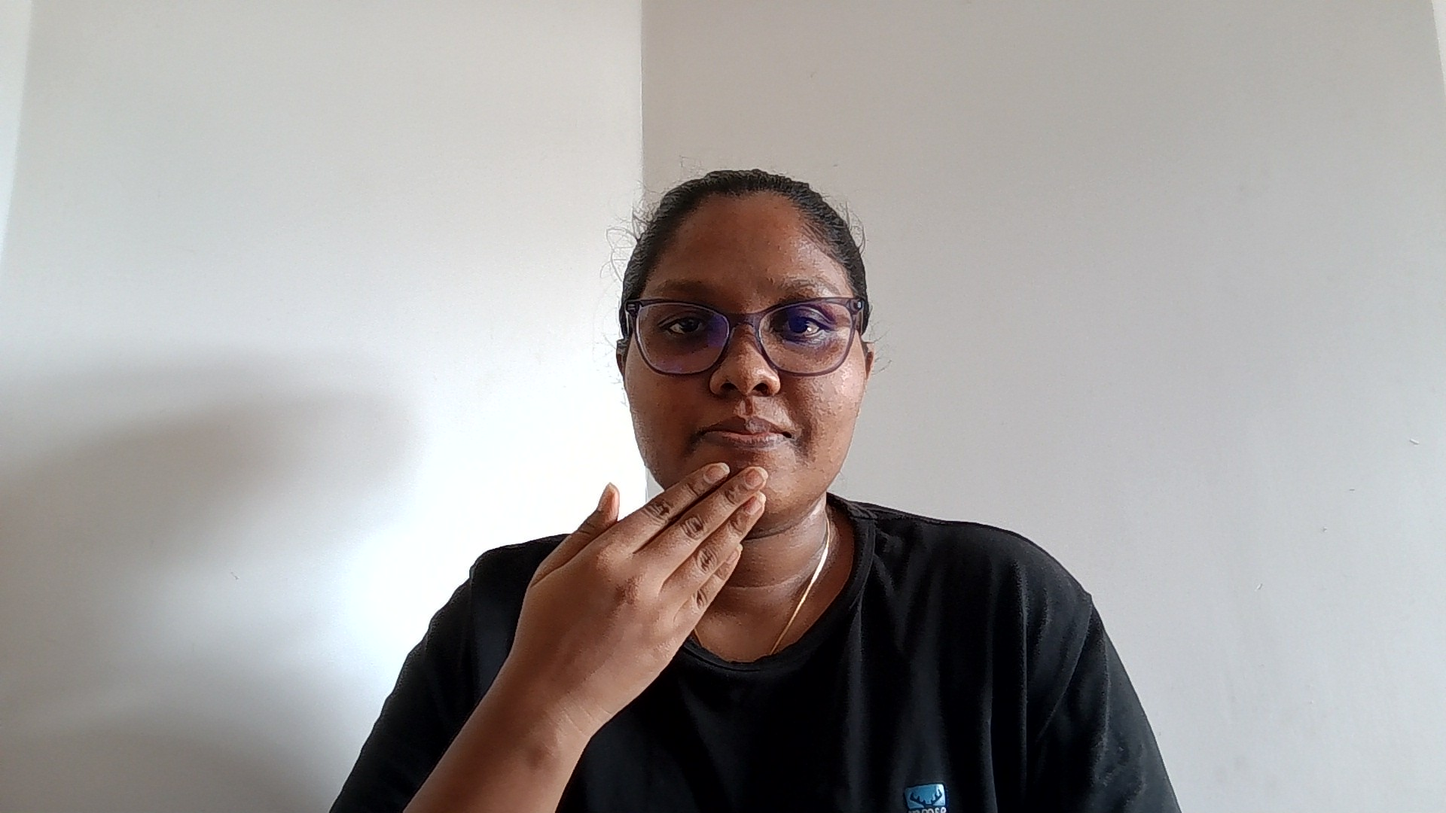Thank You: (427, 416, 919, 784)
